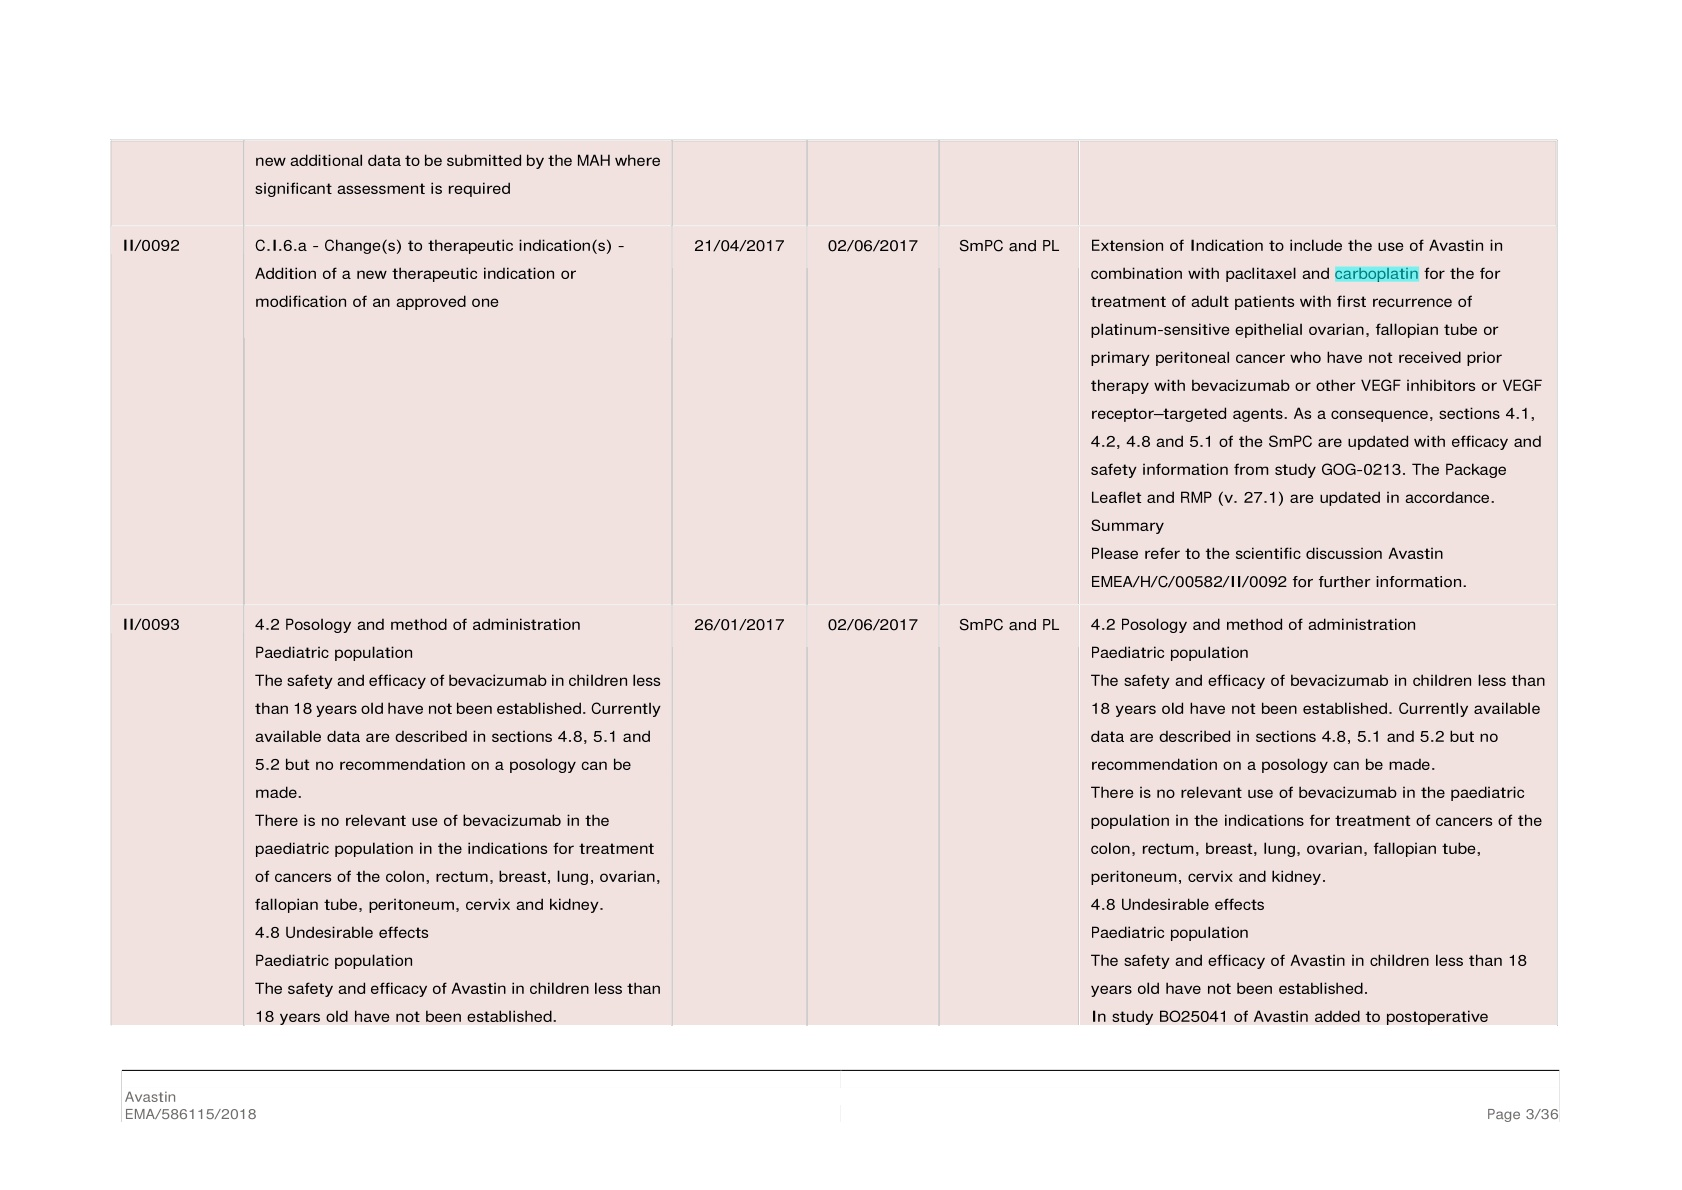full_lined: (109, 138, 1558, 1026)
